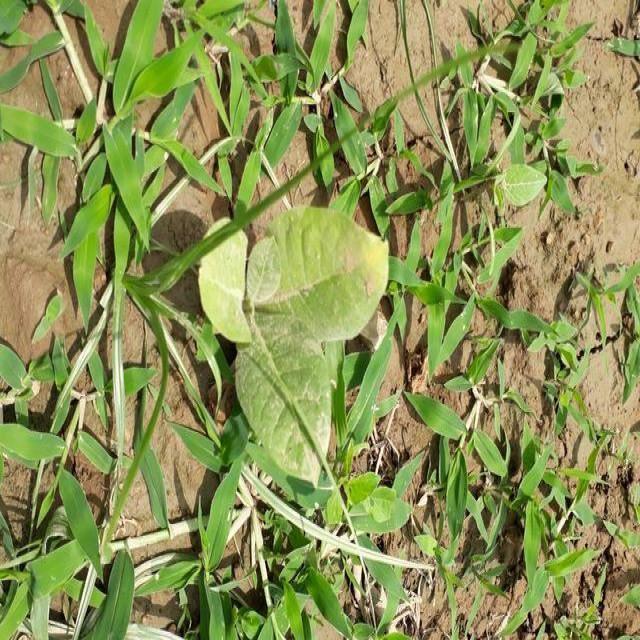crop: (195, 211, 400, 504)
